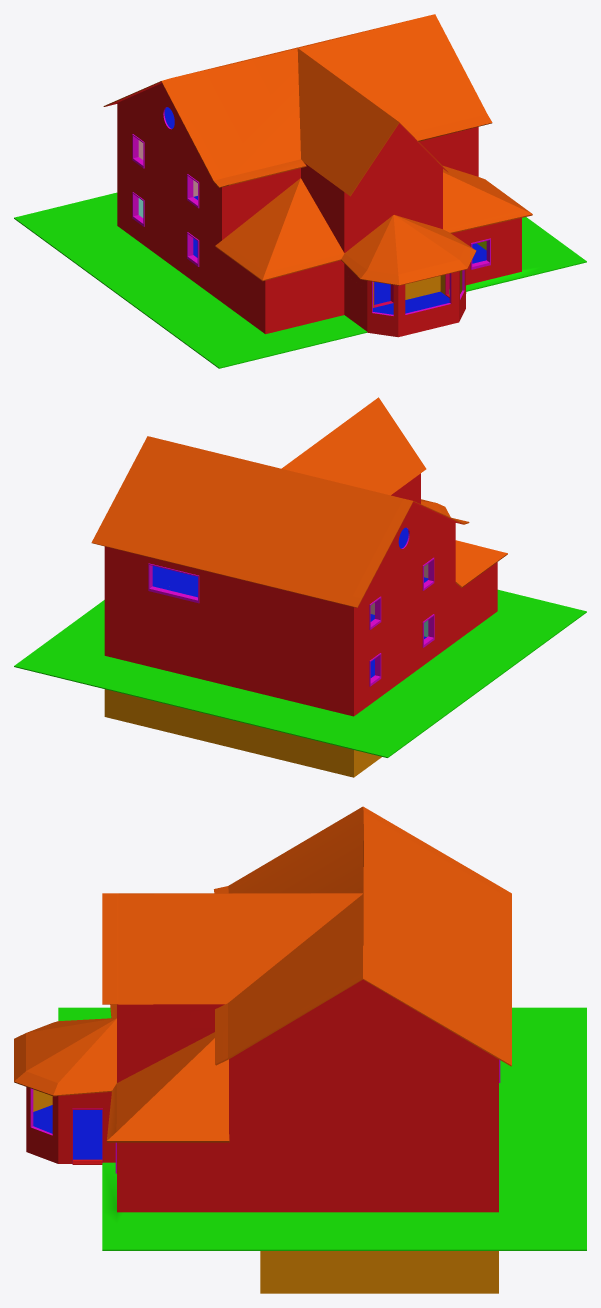
Rendered from Indie-Horror-House.fbx.
3 renders of one model, top to bottom at view 1: azimuth 30°, elevation 25°; view 2: azimuth 150°, elevation 25°; view 3: azimuth 270°, elevation 25°, orthographic. The views are drawn at different scales.
Parts seen in each view (by area): view 1: all; view 2: all; view 3: all.
Part boxes in pixels (box(x1,y1,x2,y2)): all: box(14, 14, 586, 368); all: box(14, 397, 586, 777); all: box(14, 806, 586, 1293).
Bounding box in the file's own units: 3900 × 2409 × 3901.
